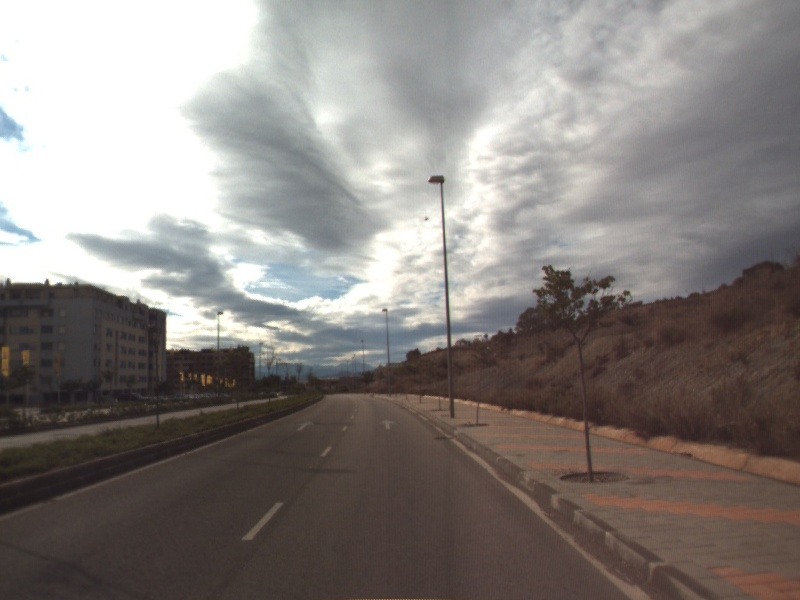STRAIGHT: (294, 419, 317, 433), (377, 417, 398, 431)
